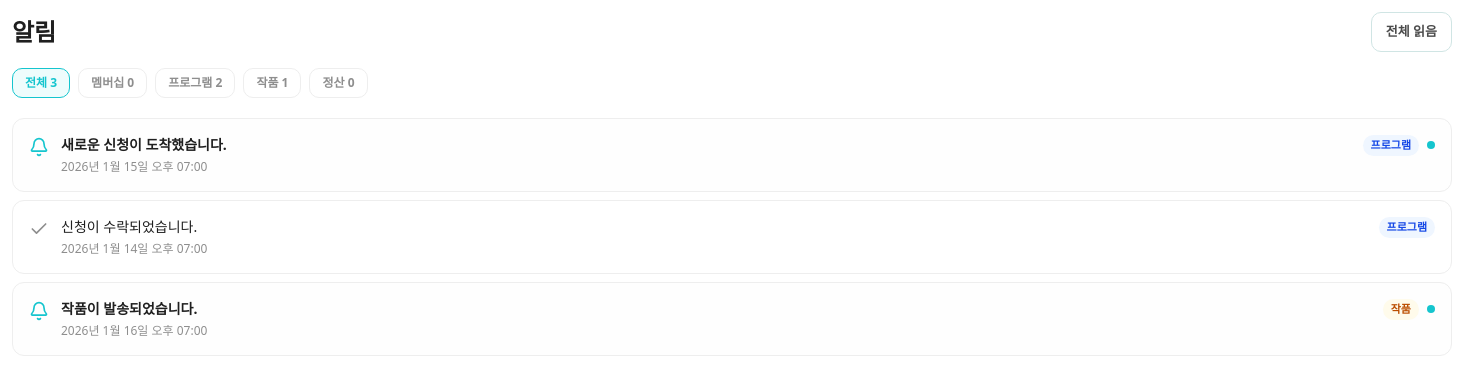
NotificationList (FR-014, AC-006) › 카테고리 필터로 알림을 좁힌다
This screenshot has width=1464, height=373.
What coordinates should you click on to do the following:
click the button "작품 1"
I would click on:
 (272, 83)
Its box is [243,68,302,98].
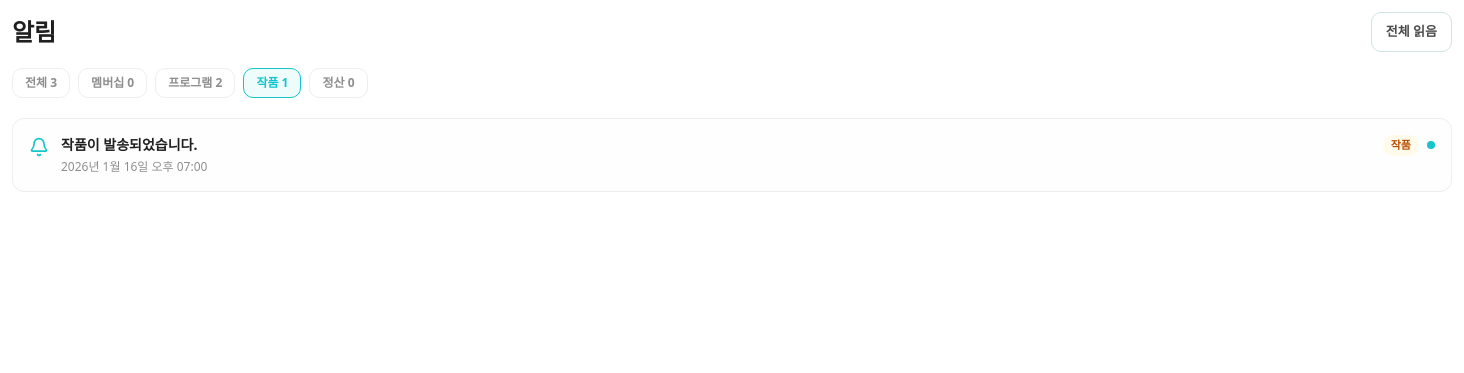
expect the text "작품이 발송되었습니다." is shown: met, box [61,135,197,154]
expect the text "새로운 신청이 도착했습니다." is gone: met
expect the text "신청이 수락되었습니다." is gone: met
